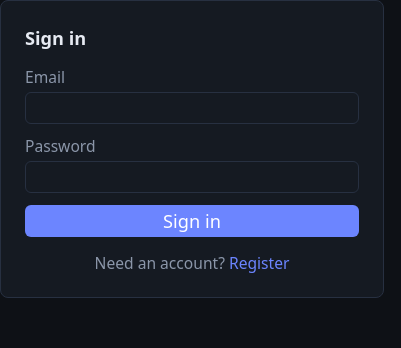
it: LoginPage › shows the generic server error on bad credentials
The image size is (401, 348).
Type "owner@zakisu.test" into the field with test id "login-email" at coordinates (192, 108), box [25,92,359,124]
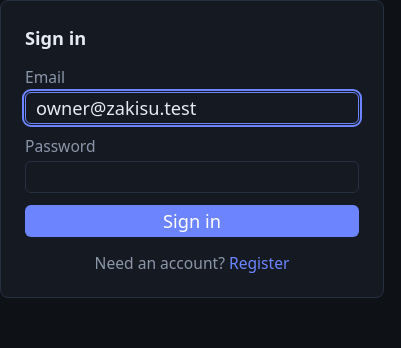
Type "wrong-password" into the password field with test id "login-password" at coordinates (192, 177), box [25,161,359,193]
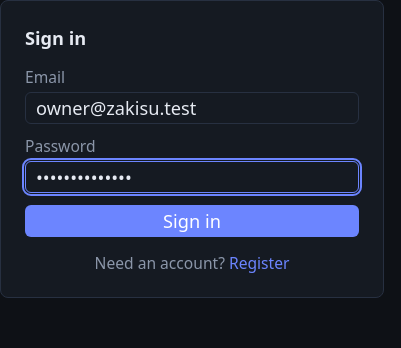
Click the button with test id "login-submit" at coordinates (192, 221), box [25,205,359,237]
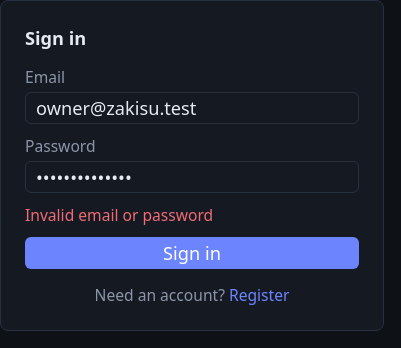
Check: the message with test id "login-error" reads "Invalid email or password", box [25,204,213,226]
